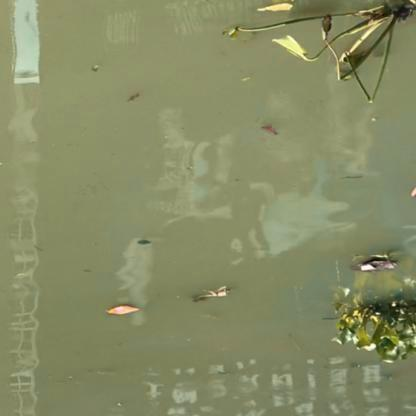Trash: (350, 250, 399, 278), (106, 300, 141, 323)
